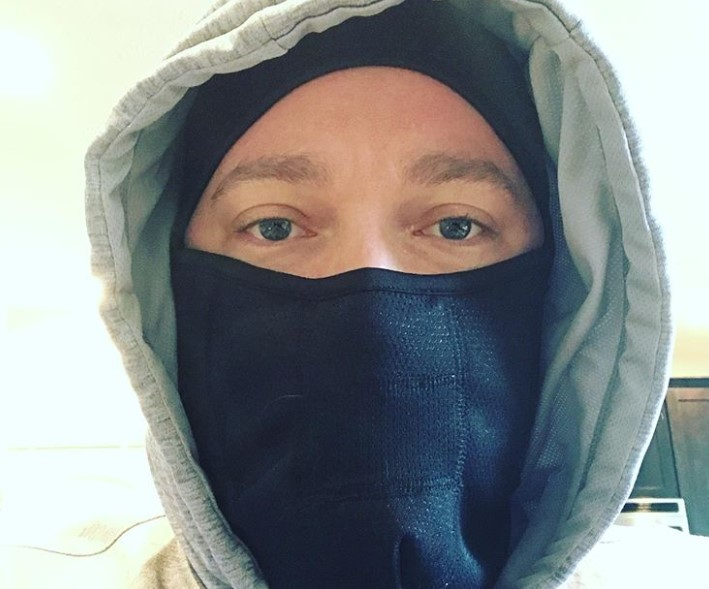face_with_mask: (181, 13, 557, 571)
